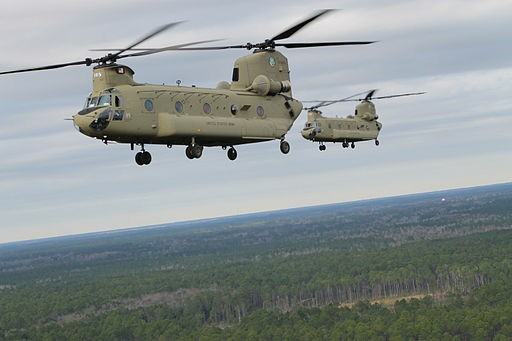chinook: (38, 21, 303, 164), (301, 88, 419, 149)
